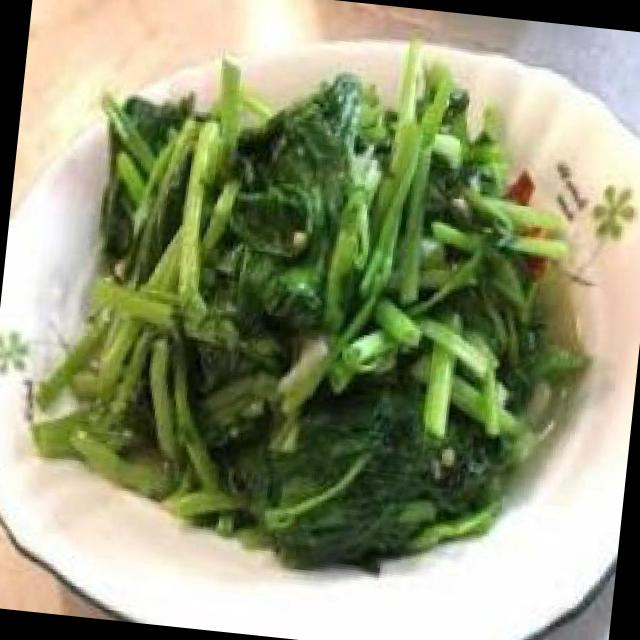water_spinach: (121, 114, 546, 507)
